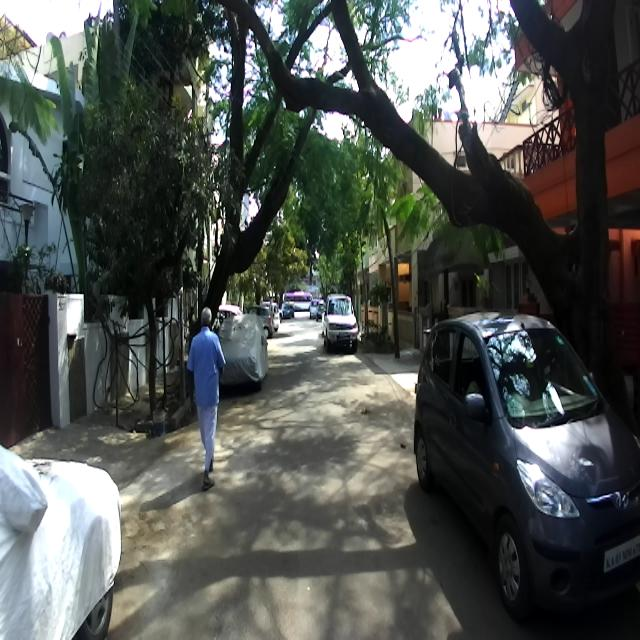car ahead at: (412, 304, 640, 632)
person ahead at: (185, 300, 232, 488)
